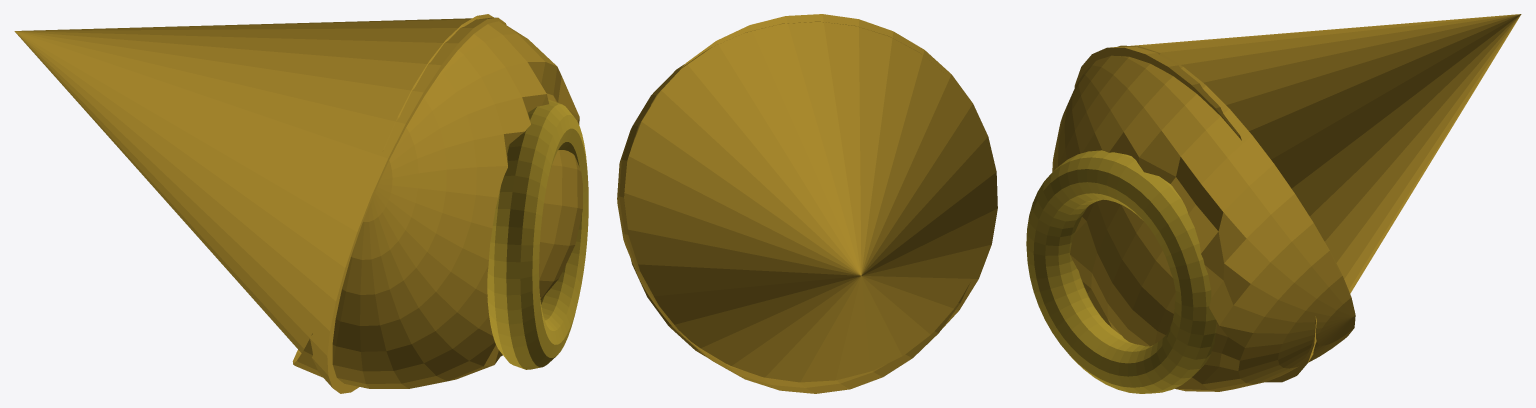
File: shell.fbx
3 views of the same model, side by side, from view 1: azimuth 30°, elevation 25°; view 2: azimuth 150°, elevation 25°; view 3: azimuth 270°, elevation 25° (orthographic). The views are drawn at different scales.
Parts seen in each view (by area): view 1: Sphere; view 2: Sphere; view 3: Sphere.
Part boxes in pixels (x1,y1,x2,y2): Sphere: [14, 14, 588, 393]; Sphere: [617, 14, 997, 393]; Sphere: [1026, 14, 1521, 393].
Size of the model in its own units: 4.35 by 3.63 by 4.88.
